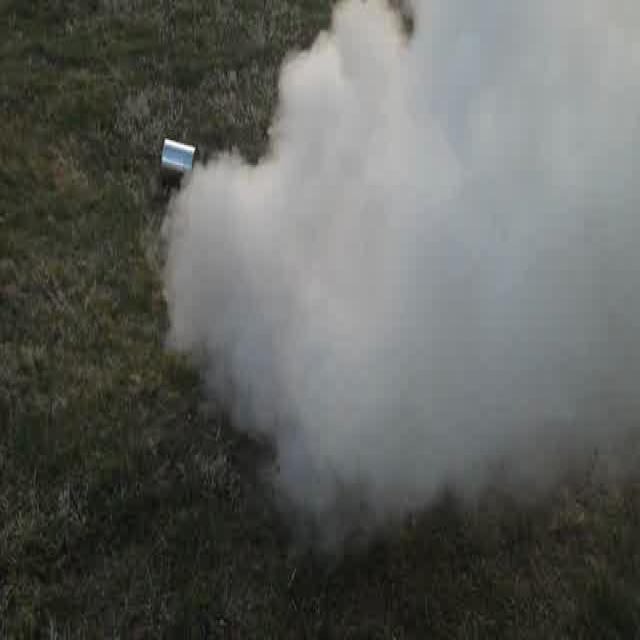Smoke: (180, 8, 638, 510)
